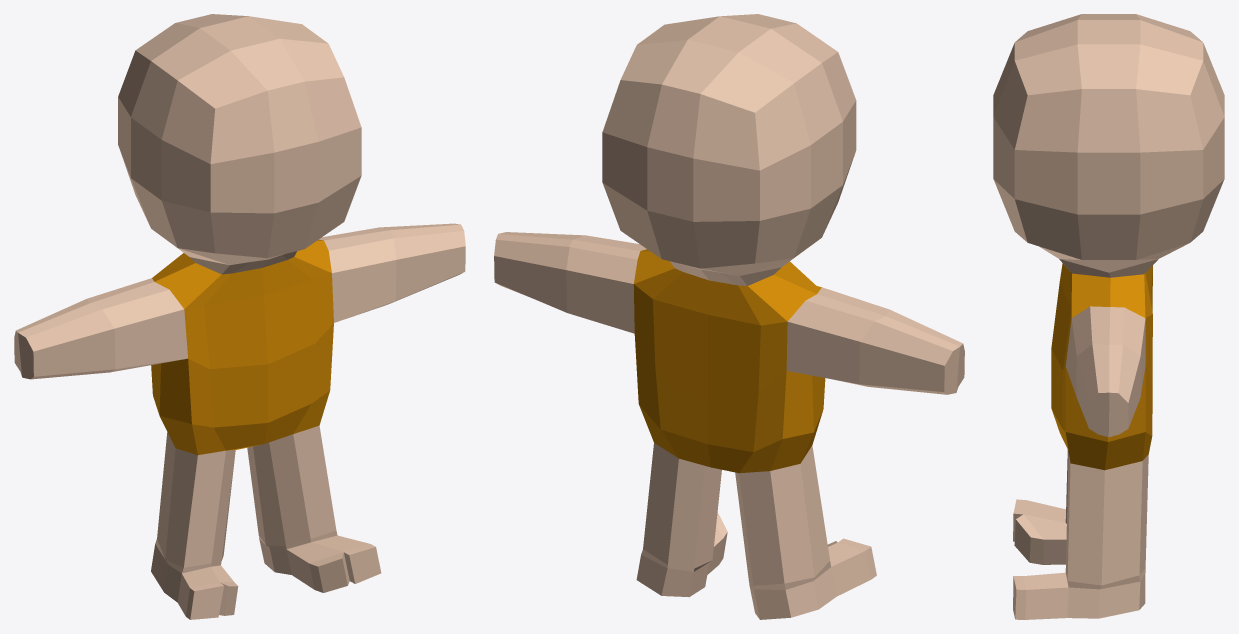
The model's file is monk_uv.fbx.
3 renders of one model, left to right at view 1: azimuth 30°, elevation 25°; view 2: azimuth 150°, elevation 25°; view 3: azimuth 270°, elevation 25°, orthographic. The views are drawn at different scales.
Parts seen in each view (by area): view 1: Cube.001; view 2: Cube.001; view 3: Cube.001.
Part boxes in pixels (x1,y1,x2,y2): Cube.001: [14, 14, 465, 619]; Cube.001: [494, 14, 964, 619]; Cube.001: [993, 14, 1224, 619].
Size of the model in its own units: 8.7 by 10.19 by 3.85.
